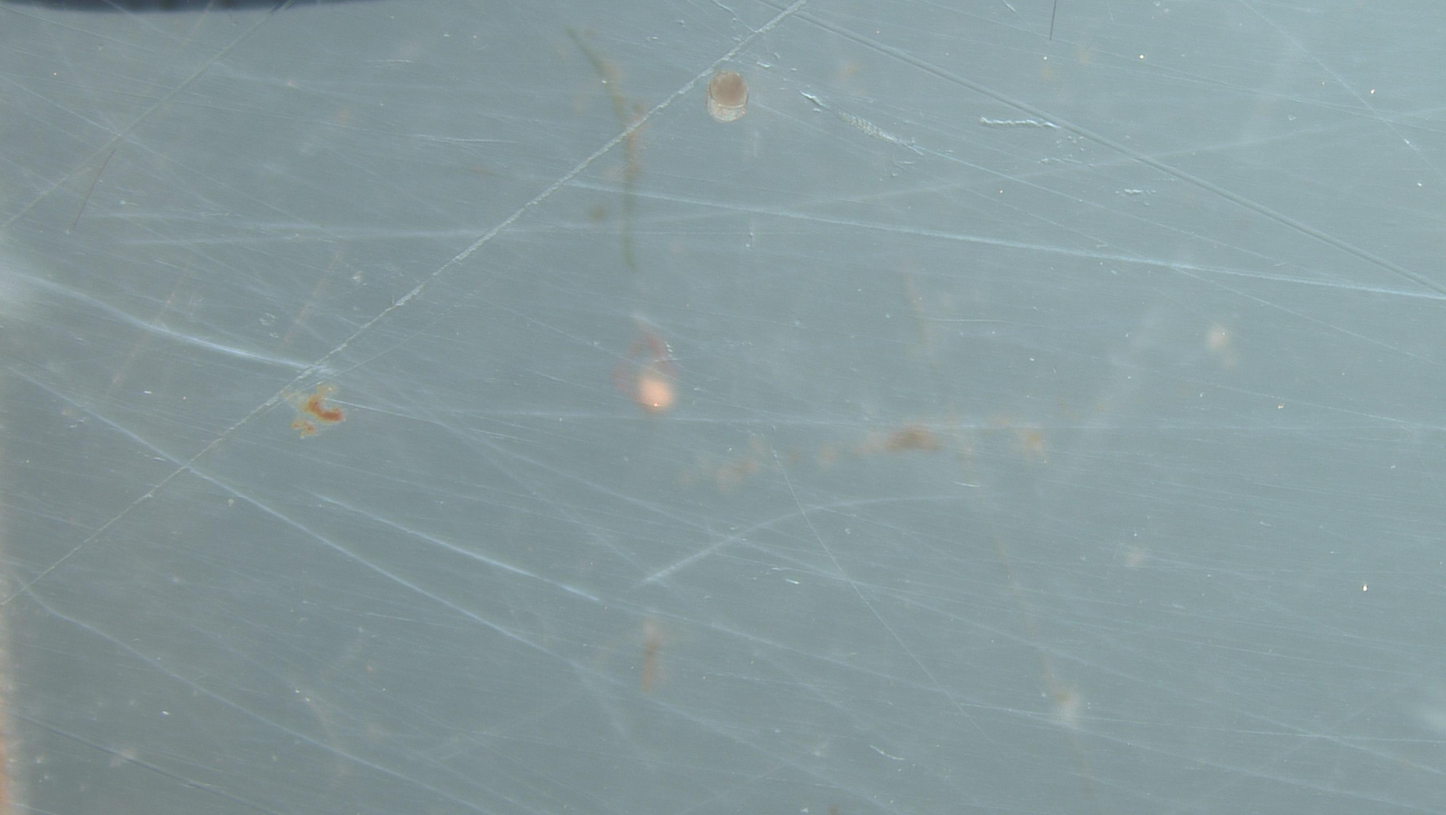live: (707, 72, 749, 123)
